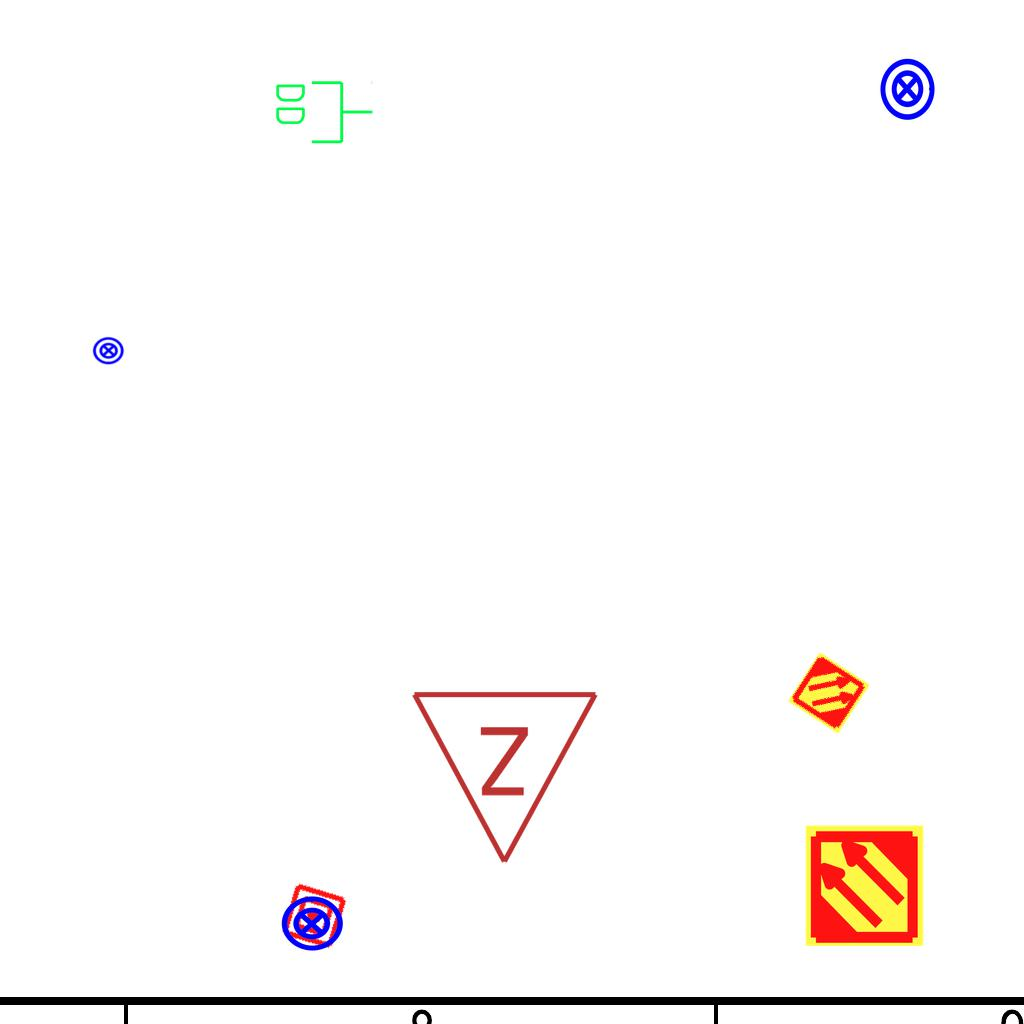ASR_Ansaugrauchmelder: (802, 823, 927, 948), (786, 650, 872, 736)
Datenanschluss_zweifach: (272, 77, 375, 146)
NAM-Nichtautomatischer_Melder: (279, 881, 349, 951)
Taster_beleuchtet: (874, 56, 940, 122), (279, 891, 345, 957), (92, 334, 125, 367)
Zimmersignalleuchte: (409, 677, 605, 877)
